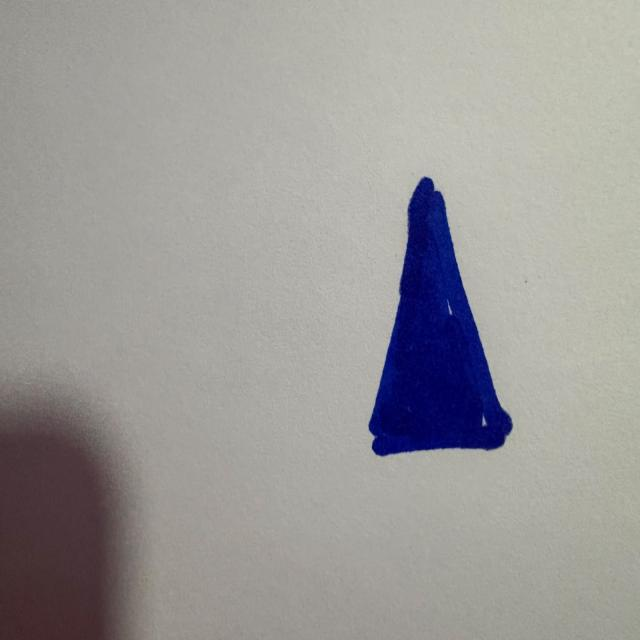Triangle: (367, 171, 516, 461)
